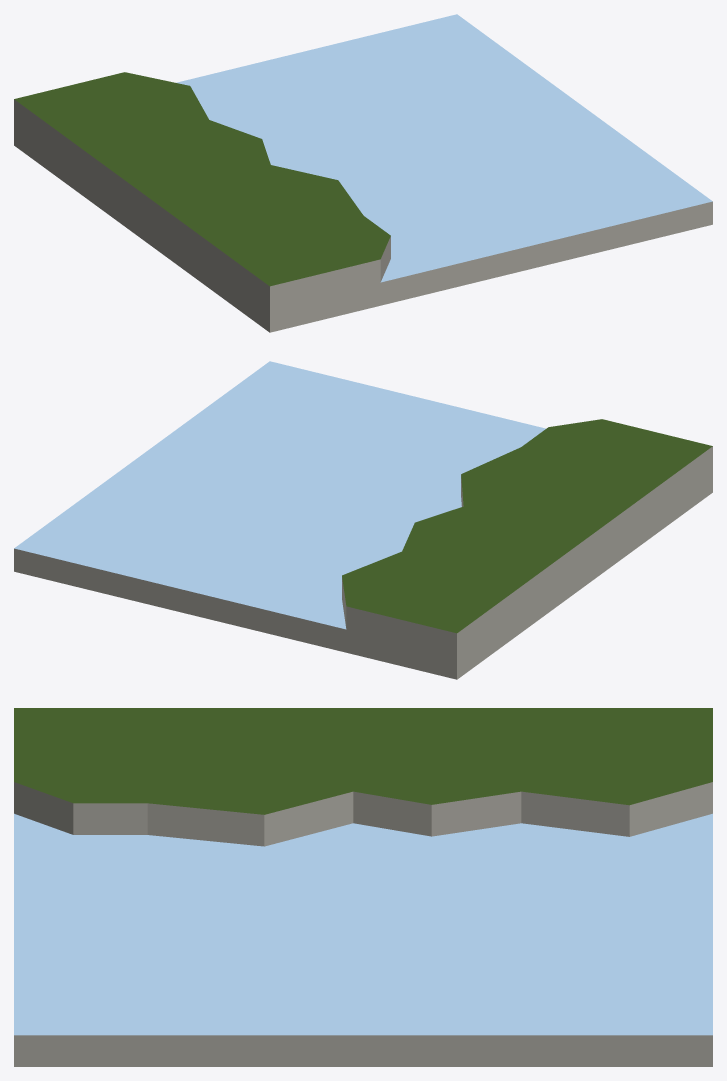
The model's file is Terrain_Modular_Tiles_Grass_Rock_Water_Edge_Straight_02.fbx.
The picture shows the model from 3 angles, top to bottom: view 1: azimuth 30°, elevation 25°; view 2: azimuth 150°, elevation 25°; view 3: azimuth 270°, elevation 25°; orthographic projection. The views are drawn at different scales.
Parts seen in each view (by area): view 1: Terrain_Modular_Tiles_Grass_Rock_Water_Edge_Straight_02; view 2: Terrain_Modular_Tiles_Grass_Rock_Water_Edge_Straight_02; view 3: Terrain_Modular_Tiles_Grass_Rock_Water_Edge_Straight_02.
Boxes of the visible parts, x1=… form: Terrain_Modular_Tiles_Grass_Rock_Water_Edge_Straight_02: x1=14, y1=14, x2=712, y2=332; Terrain_Modular_Tiles_Grass_Rock_Water_Edge_Straight_02: x1=14, y1=361, x2=712, y2=679; Terrain_Modular_Tiles_Grass_Rock_Water_Edge_Straight_02: x1=14, y1=708, x2=712, y2=1066.
Size of the model in its own units: 3000 by 300 by 3000.
